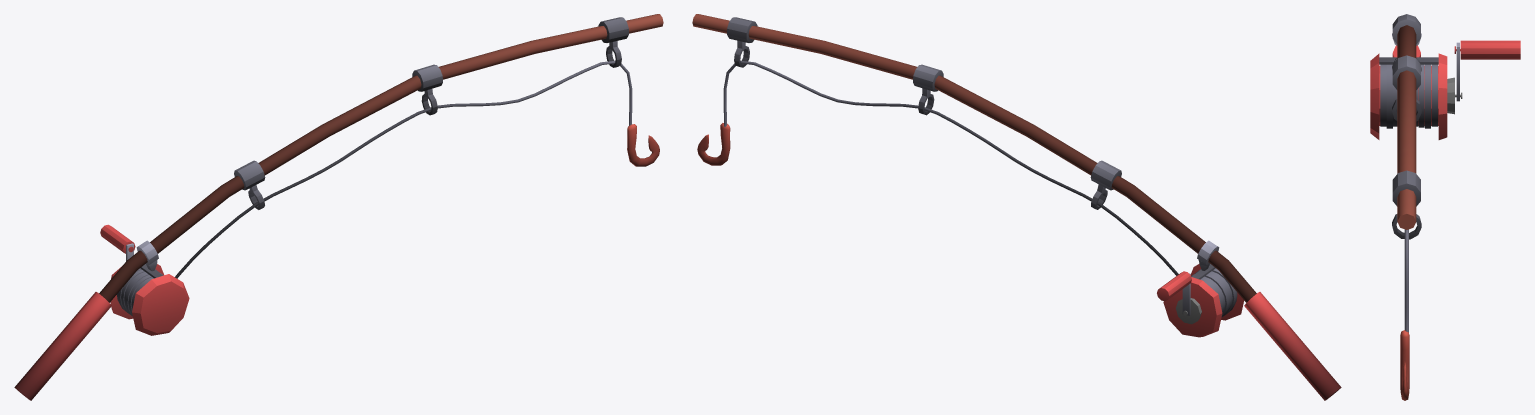
The model's file is SM_Sw_FishingRod_01.fbx.
3 views of the same model, side by side, from view 1: azimuth 30°, elevation 25°; view 2: azimuth 150°, elevation 25°; view 3: azimuth 270°, elevation 25° (orthographic). The views are drawn at different scales.
Visible parts, largest first — view 1: SM_Sw_FishingRod_01; view 2: SM_Sw_FishingRod_01; view 3: SM_Sw_FishingRod_01.
Boxes of the visible parts, left/top/right/bottom form: SM_Sw_FishingRod_01: left=14, top=14, right=663, bottom=400; SM_Sw_FishingRod_01: left=692, top=14, right=1341, bottom=400; SM_Sw_FishingRod_01: left=1370, top=14, right=1520, bottom=400.
Bounding box in the file's own units: 65.46 × 23.08 × 10.06.
